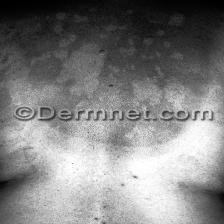Benign Marking or Mole: (24, 12, 208, 106)
